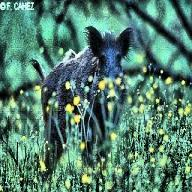boar: (32, 24, 134, 171)
